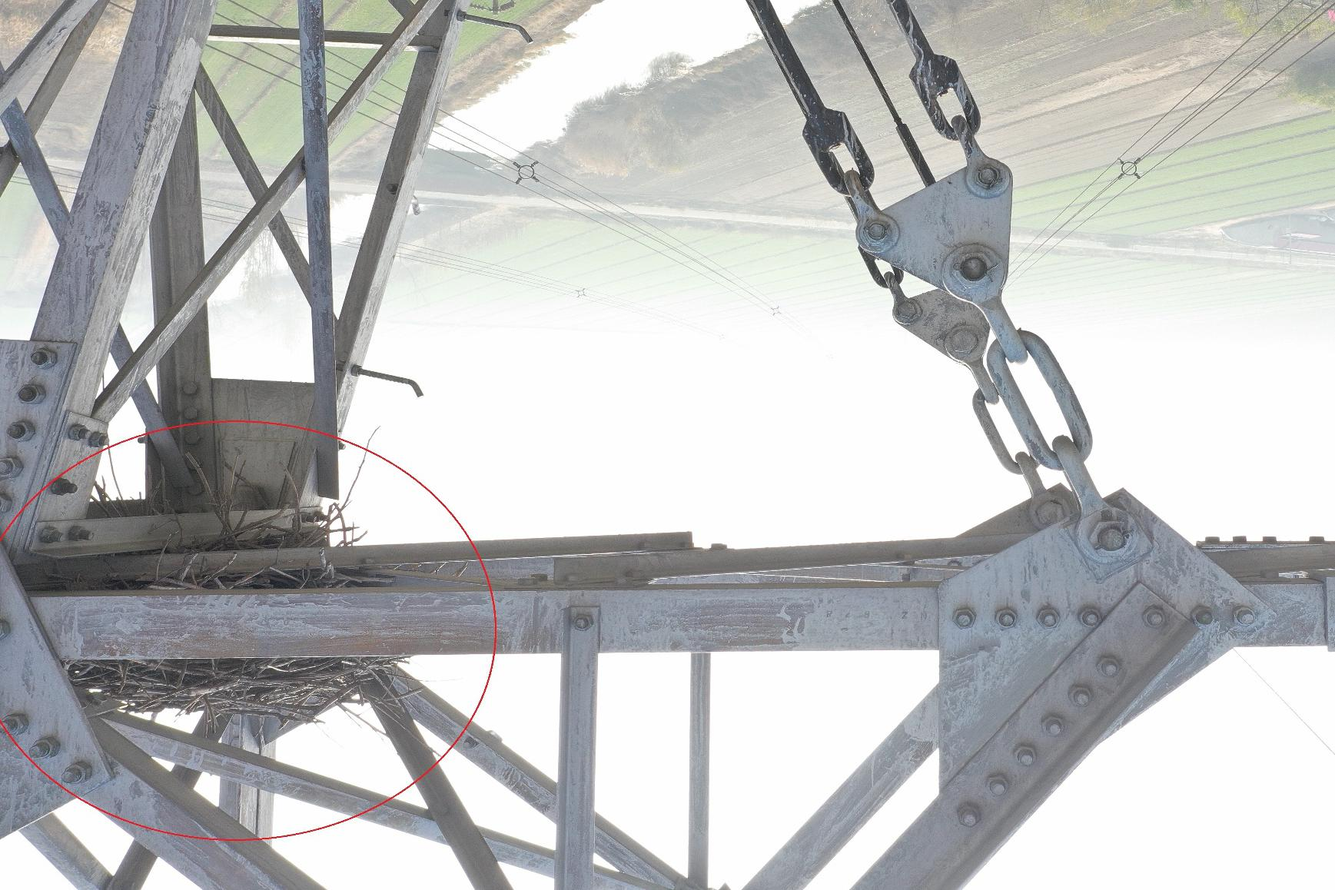nest: (25, 434, 430, 732)
